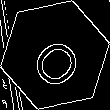O_NE: (22, 22, 88, 88)
